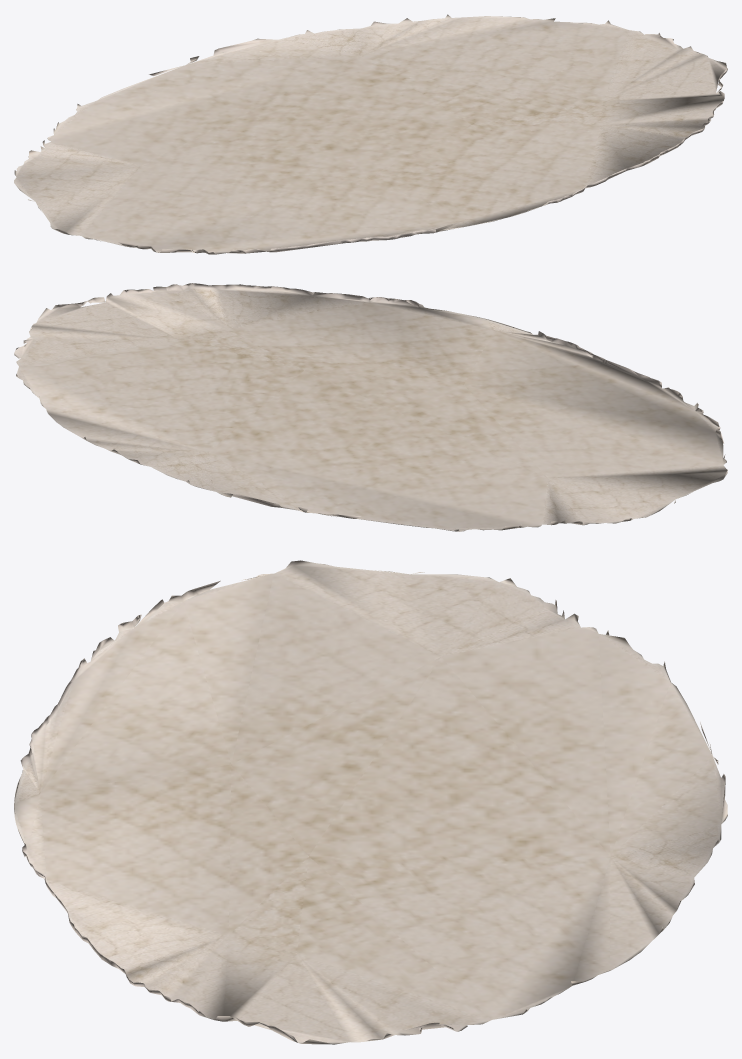
The model's file is Meshy_AI_ground_stylized_mediterranean_20261030_texture.fbx.
3 renders of one model, top to bottom at view 1: azimuth 30°, elevation 25°; view 2: azimuth 150°, elevation 25°; view 3: azimuth 270°, elevation 25°, orthographic. The views are drawn at different scales.
Visible parts, largest first — view 1: Mesh_0; view 2: Mesh_0; view 3: Mesh_0.
Boxes of the visible parts, x1,y1,x2,y2 form: Mesh_0: (14,14,727,254); Mesh_0: (14,283,727,531); Mesh_0: (14,560,727,1044).
Size of the model in its own units: 200 by 1.34 by 125.
Materials: 1 (1 with a texture image).
